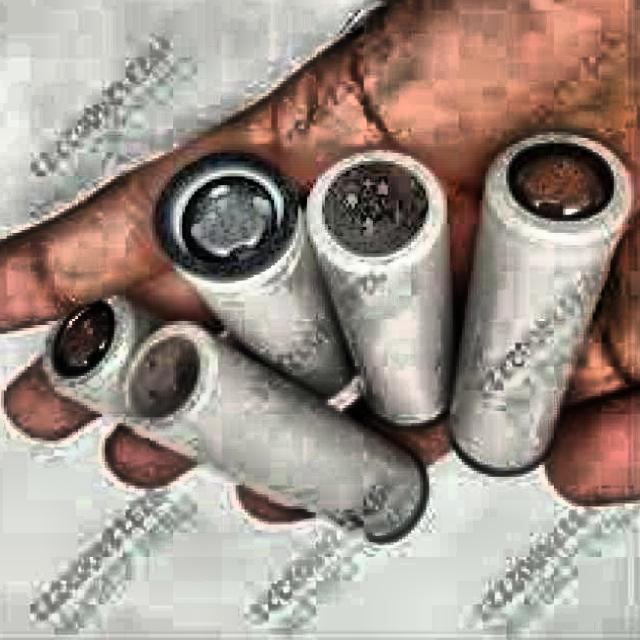battery: (45, 298, 426, 542), (453, 135, 631, 477), (155, 150, 352, 396), (308, 147, 450, 426)
